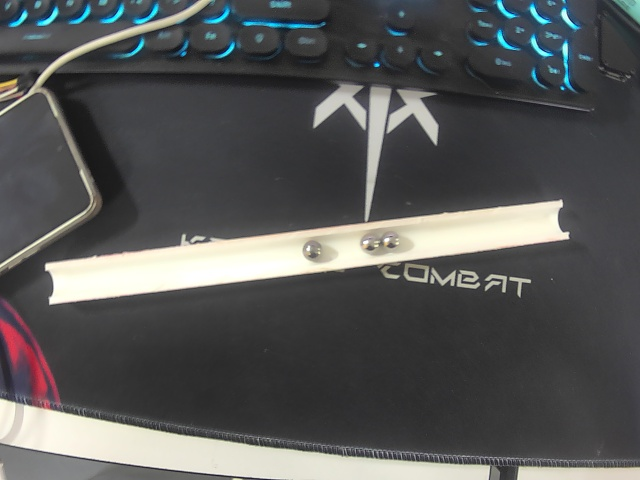steelball: (360, 233, 381, 254), (303, 240, 323, 260), (381, 230, 400, 250)
